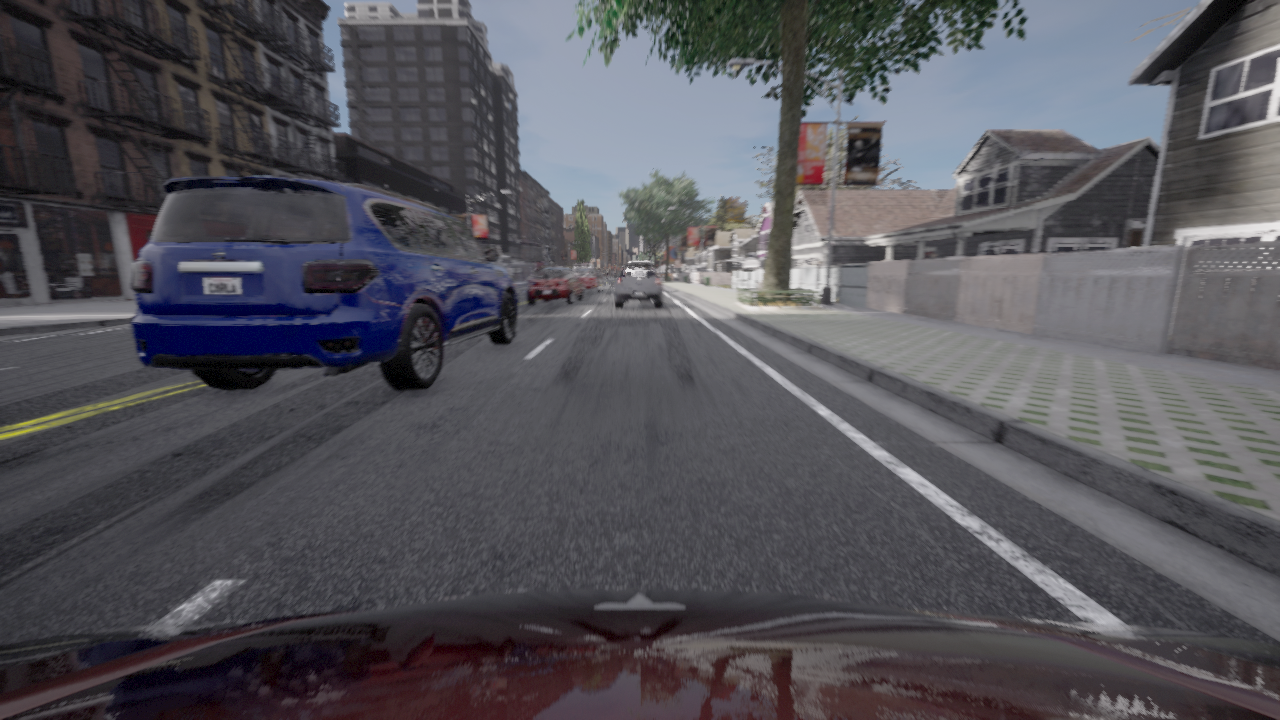cyclist: (0, 588, 1279, 719), (131, 177, 517, 390), (527, 267, 583, 305), (615, 265, 662, 307), (576, 269, 603, 292), (572, 264, 595, 275), (628, 262, 656, 271), (606, 278, 608, 283)
